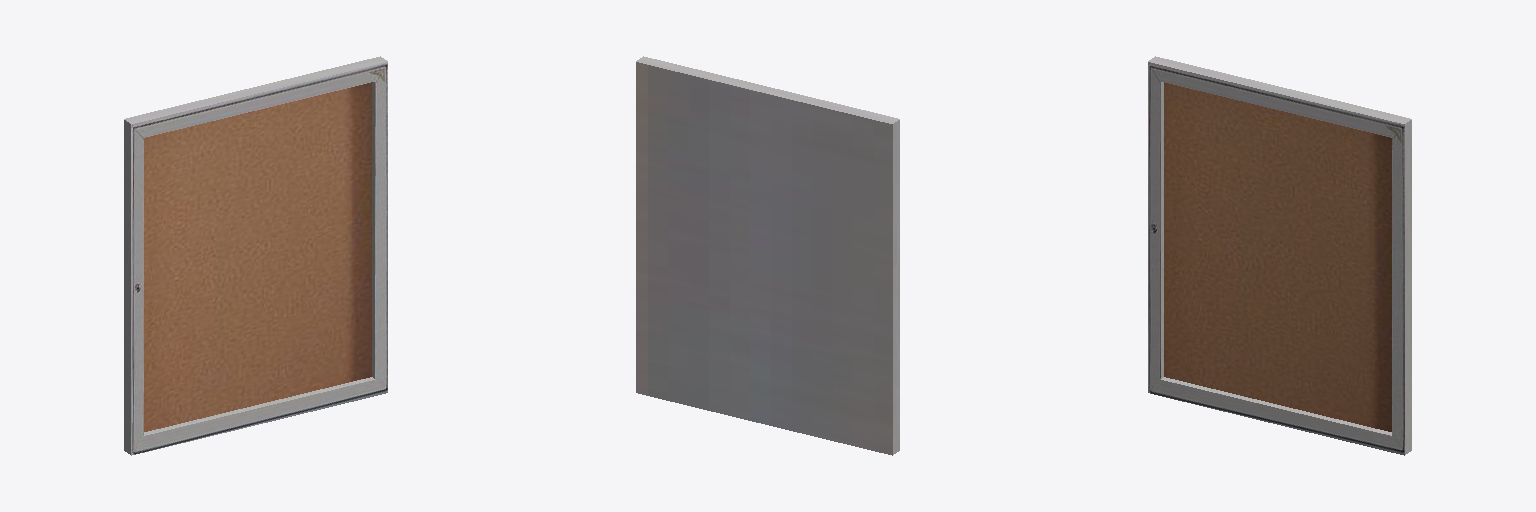
3 views of the same model, side by side, from view 1: azimuth 30°, elevation 25°; view 2: azimuth 150°, elevation 25°; view 3: azimuth 330°, elevation 25° (orthographic).
Visible parts, largest first — view 1: bulletinBoard.obj; view 2: bulletinBoard.obj; view 3: bulletinBoard.obj.
Part boxes in pixels (x1,y1,x2,y2): bulletinBoard.obj: (124,56,387,455); bulletinBoard.obj: (636,56,899,455); bulletinBoard.obj: (1148,56,1411,455).
Bounding box in the file's own units: 5.3 × 6.52 × 0.2698.
Materials: 1 (1 with a texture image).